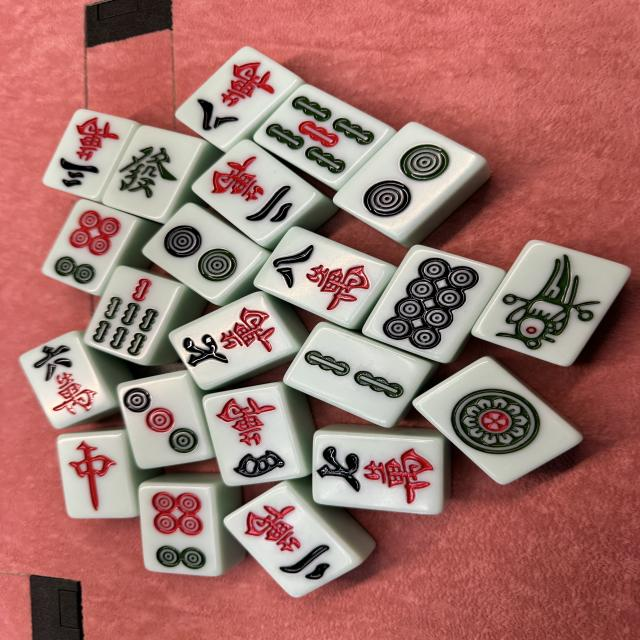hdg: (103, 125, 201, 222)
hdr: (58, 432, 138, 518)
sb1: (472, 240, 631, 367)
sb2: (283, 322, 433, 426)
sb5: (254, 83, 391, 188)
sb7: (86, 265, 184, 365)
sc2: (223, 482, 359, 597), (190, 139, 320, 243)
sc3: (42, 108, 138, 198)
sc4: (202, 382, 304, 486)
sc6: (19, 330, 115, 430)
sc7: (168, 292, 299, 391), (311, 429, 444, 515)
sc8: (253, 227, 391, 328), (174, 47, 298, 151)
sd1: (413, 356, 582, 486)
sd2: (332, 121, 485, 241), (141, 202, 263, 303)
sd3: (117, 370, 213, 468)
sd6: (42, 199, 143, 295), (139, 484, 220, 576)
sd8: (364, 244, 506, 364)
